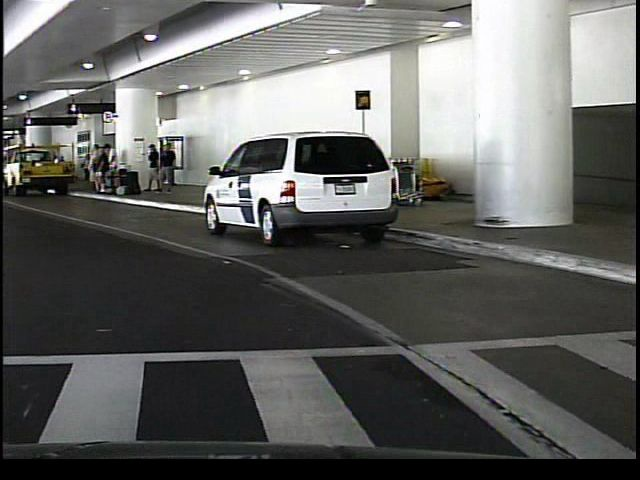person: (157, 139, 175, 193), (84, 140, 99, 193)
